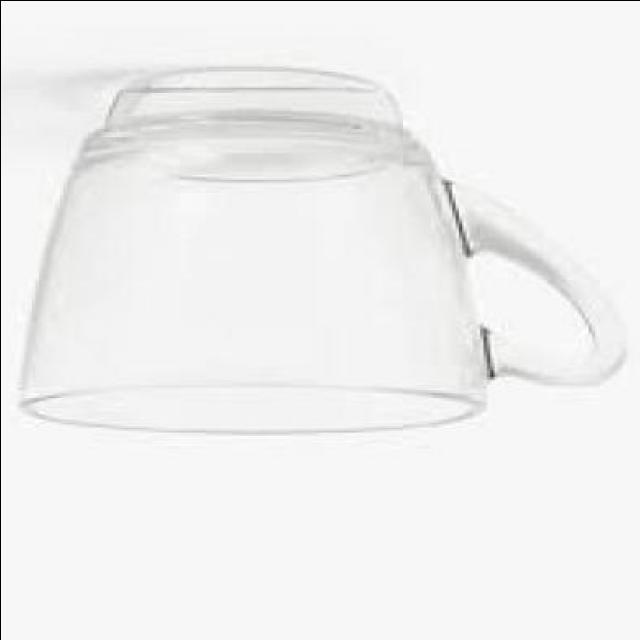kaca: (18, 72, 620, 433)
